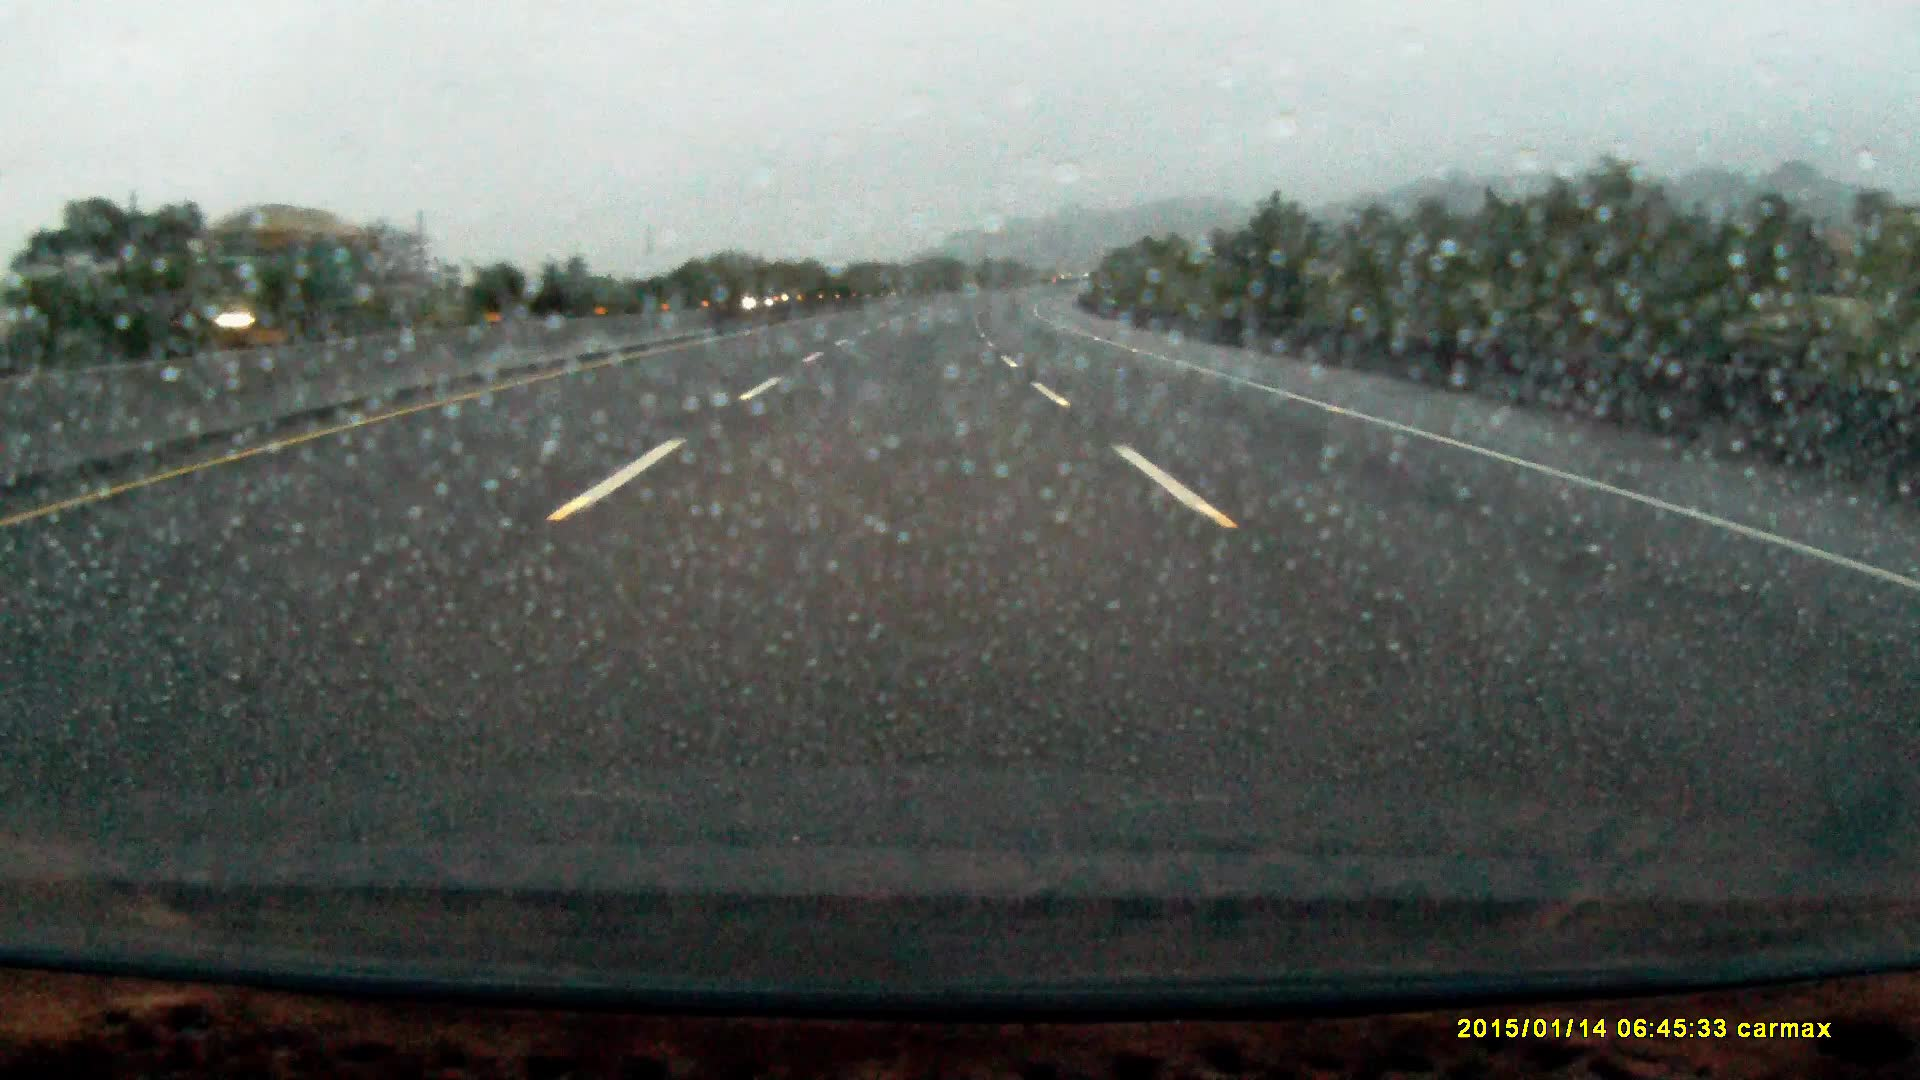vehicle: (157, 206, 378, 351)
